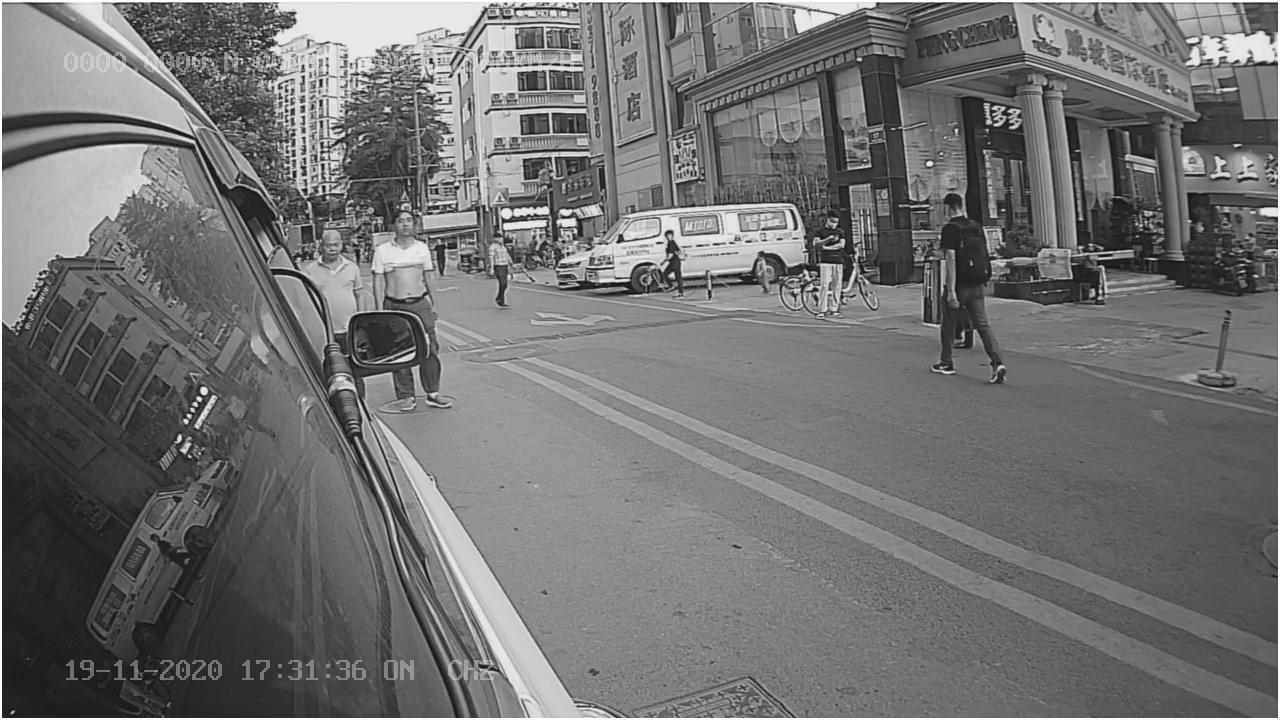person: (367, 209, 441, 307)
